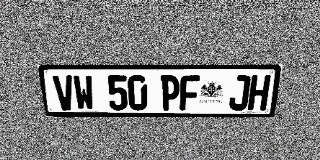0: (127, 75, 147, 110)
5: (107, 75, 128, 110)
F: (180, 75, 200, 110)
H: (247, 75, 271, 110)
J: (228, 75, 251, 110)
P: (161, 75, 180, 110)
V: (52, 75, 76, 110)
W: (72, 75, 95, 110)
